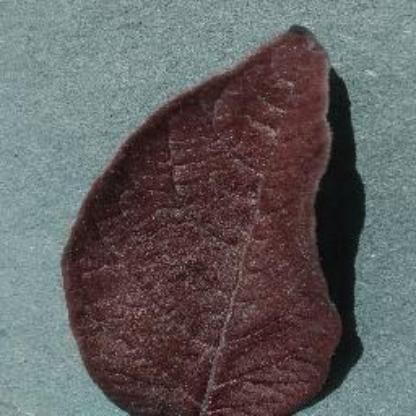Healthy-plant: (62, 21, 374, 415)
